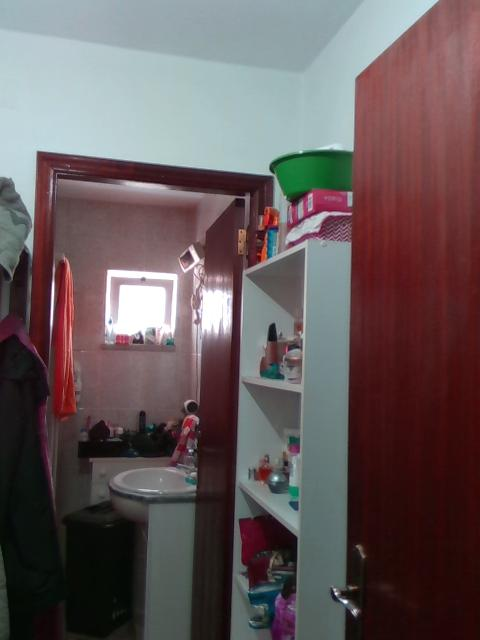open_door: (28, 149, 277, 639)
